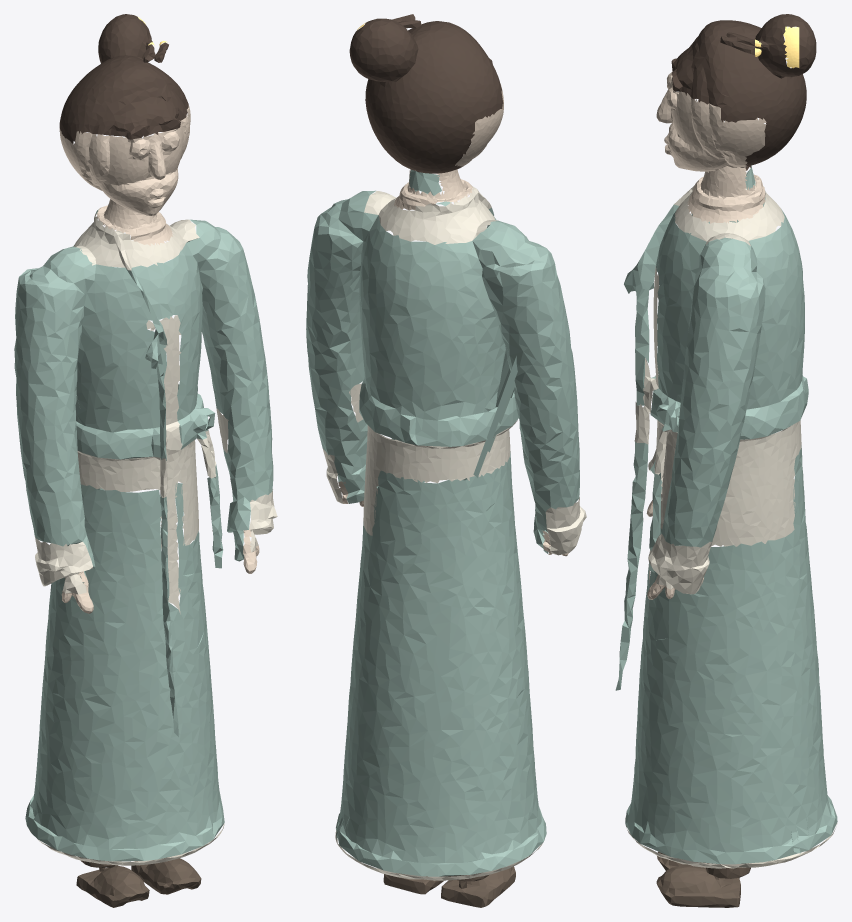
Rendered from tripo-young-attendant.glb.
3 renders of one model, left to right at view 1: azimuth 30°, elevation 25°; view 2: azimuth 150°, elevation 25°; view 3: azimuth 270°, elevation 25°, orthographic. The views are drawn at different scales.
Parts seen in each view (by area): view 1: tripo_node_6371438f-66f3-4edc-93e5-627506e0a585; view 2: tripo_node_6371438f-66f3-4edc-93e5-627506e0a585; view 3: tripo_node_6371438f-66f3-4edc-93e5-627506e0a585.
Boxes of the visible parts, box(x1,y1,x2,y2) form: tripo_node_6371438f-66f3-4edc-93e5-627506e0a585: box(14, 14, 277, 907); tripo_node_6371438f-66f3-4edc-93e5-627506e0a585: box(306, 14, 586, 907); tripo_node_6371438f-66f3-4edc-93e5-627506e0a585: box(615, 14, 837, 907).
Size of the model in its own units: 0.3036 by 1 by 0.2283.
